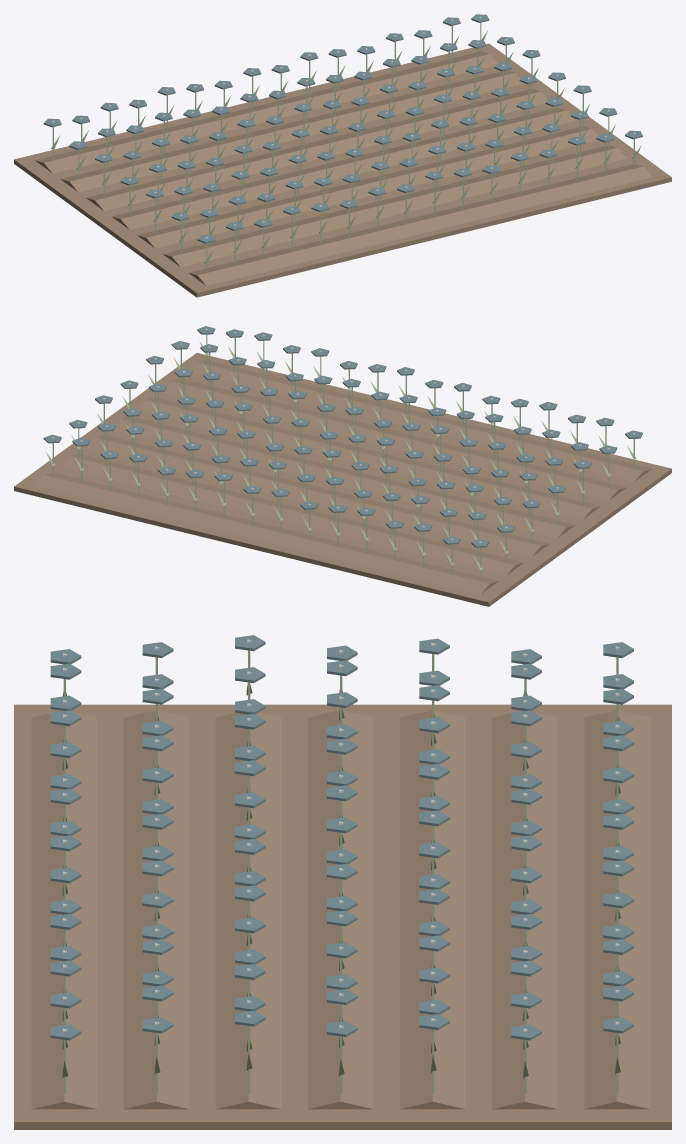
Rendered from field-flax.glb.
The picture shows the model from 3 angles, top to bottom: view 1: azimuth 30°, elevation 25°; view 2: azimuth 150°, elevation 25°; view 3: azimuth 270°, elevation 25°; orthographic projection. The views are drawn at different scales.
Visible parts, largest first — view 1: field_flax; view 2: field_flax; view 3: field_flax.
Part boxes in pixels (x1,y1,x2,y2): field_flax: (14, 14, 671, 297); field_flax: (14, 326, 671, 606); field_flax: (14, 635, 671, 1129).
Size of the model in its own units: 3 by 0.313 by 2.
